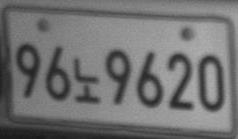0: (198, 55, 224, 111)
2: (167, 52, 193, 109)
6: (136, 51, 163, 107), (44, 46, 71, 100)
9: (105, 48, 130, 104), (15, 43, 40, 97)
노: (73, 57, 99, 103)
